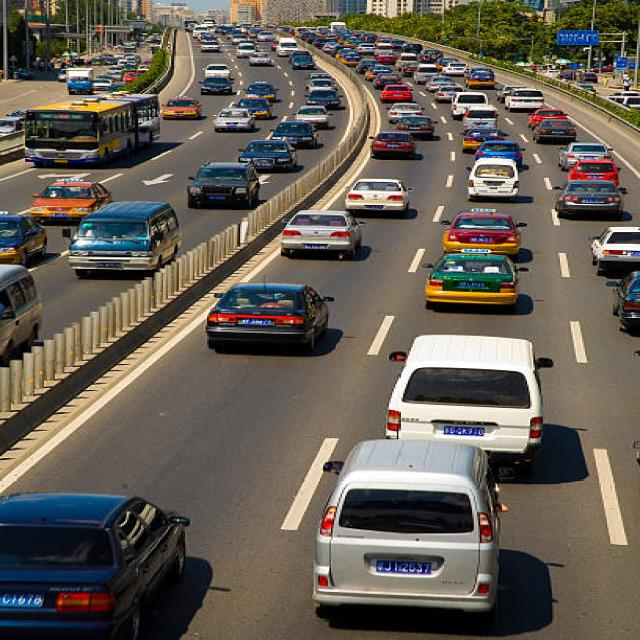high_traffic: (6, 32, 621, 582)
